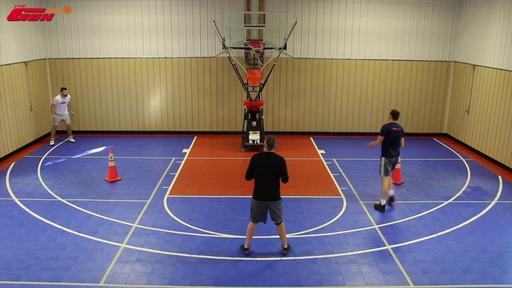human: (240, 136, 291, 254), (368, 109, 406, 212), (50, 88, 76, 146)
rim: (244, 39, 267, 56)
